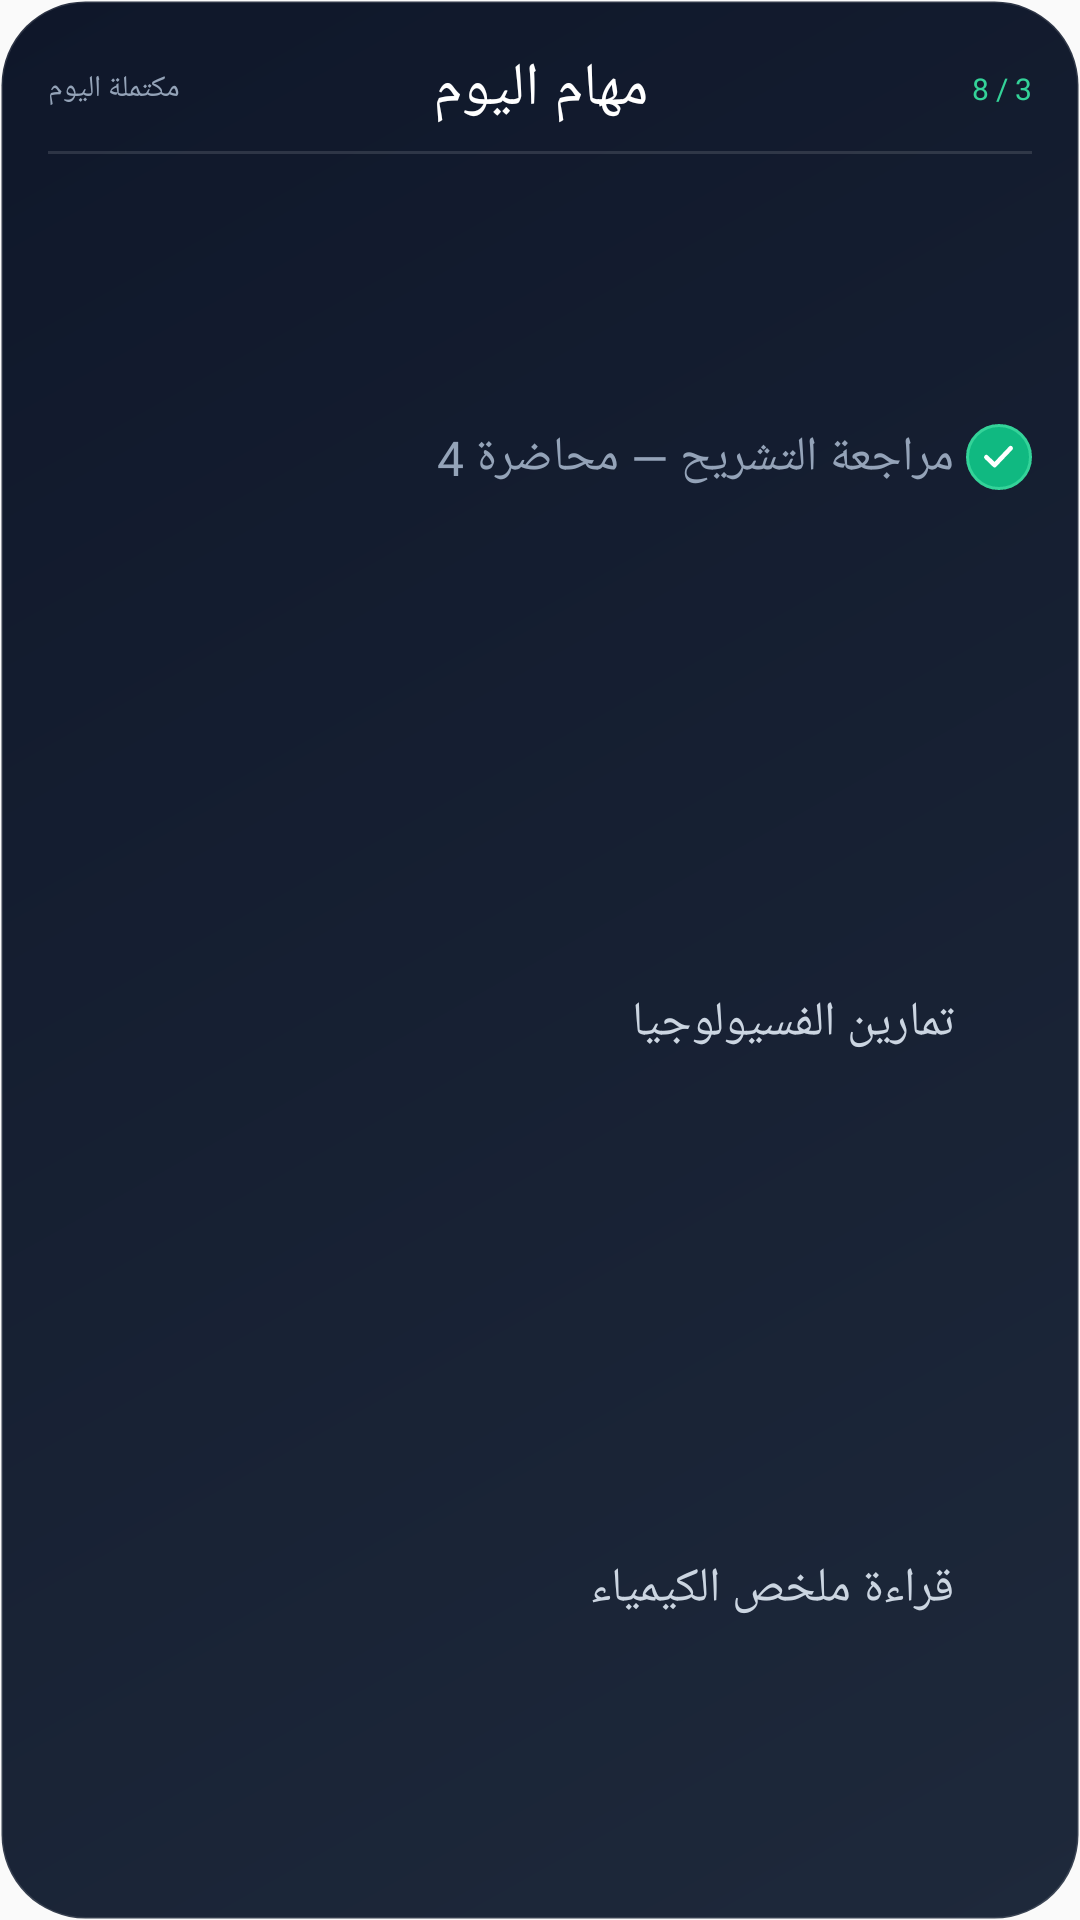

Named icons in this screenshot (1080px×1920px) and their centers, point (x, y):
widget check: point (998, 456)
